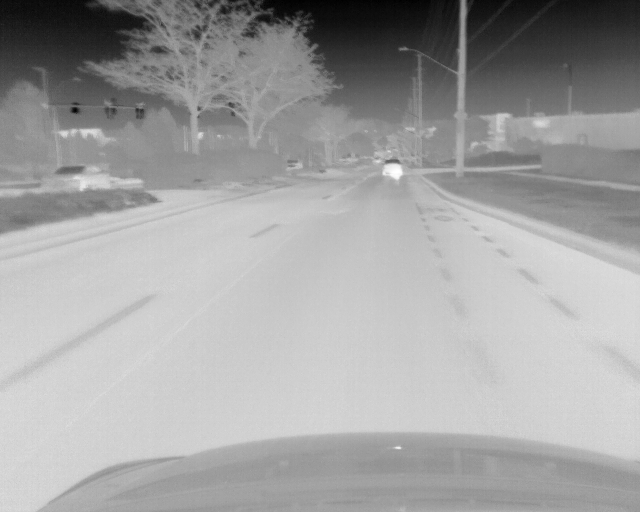car: (42, 163, 110, 194), (383, 160, 403, 177), (286, 158, 301, 168), (371, 156, 382, 165)
